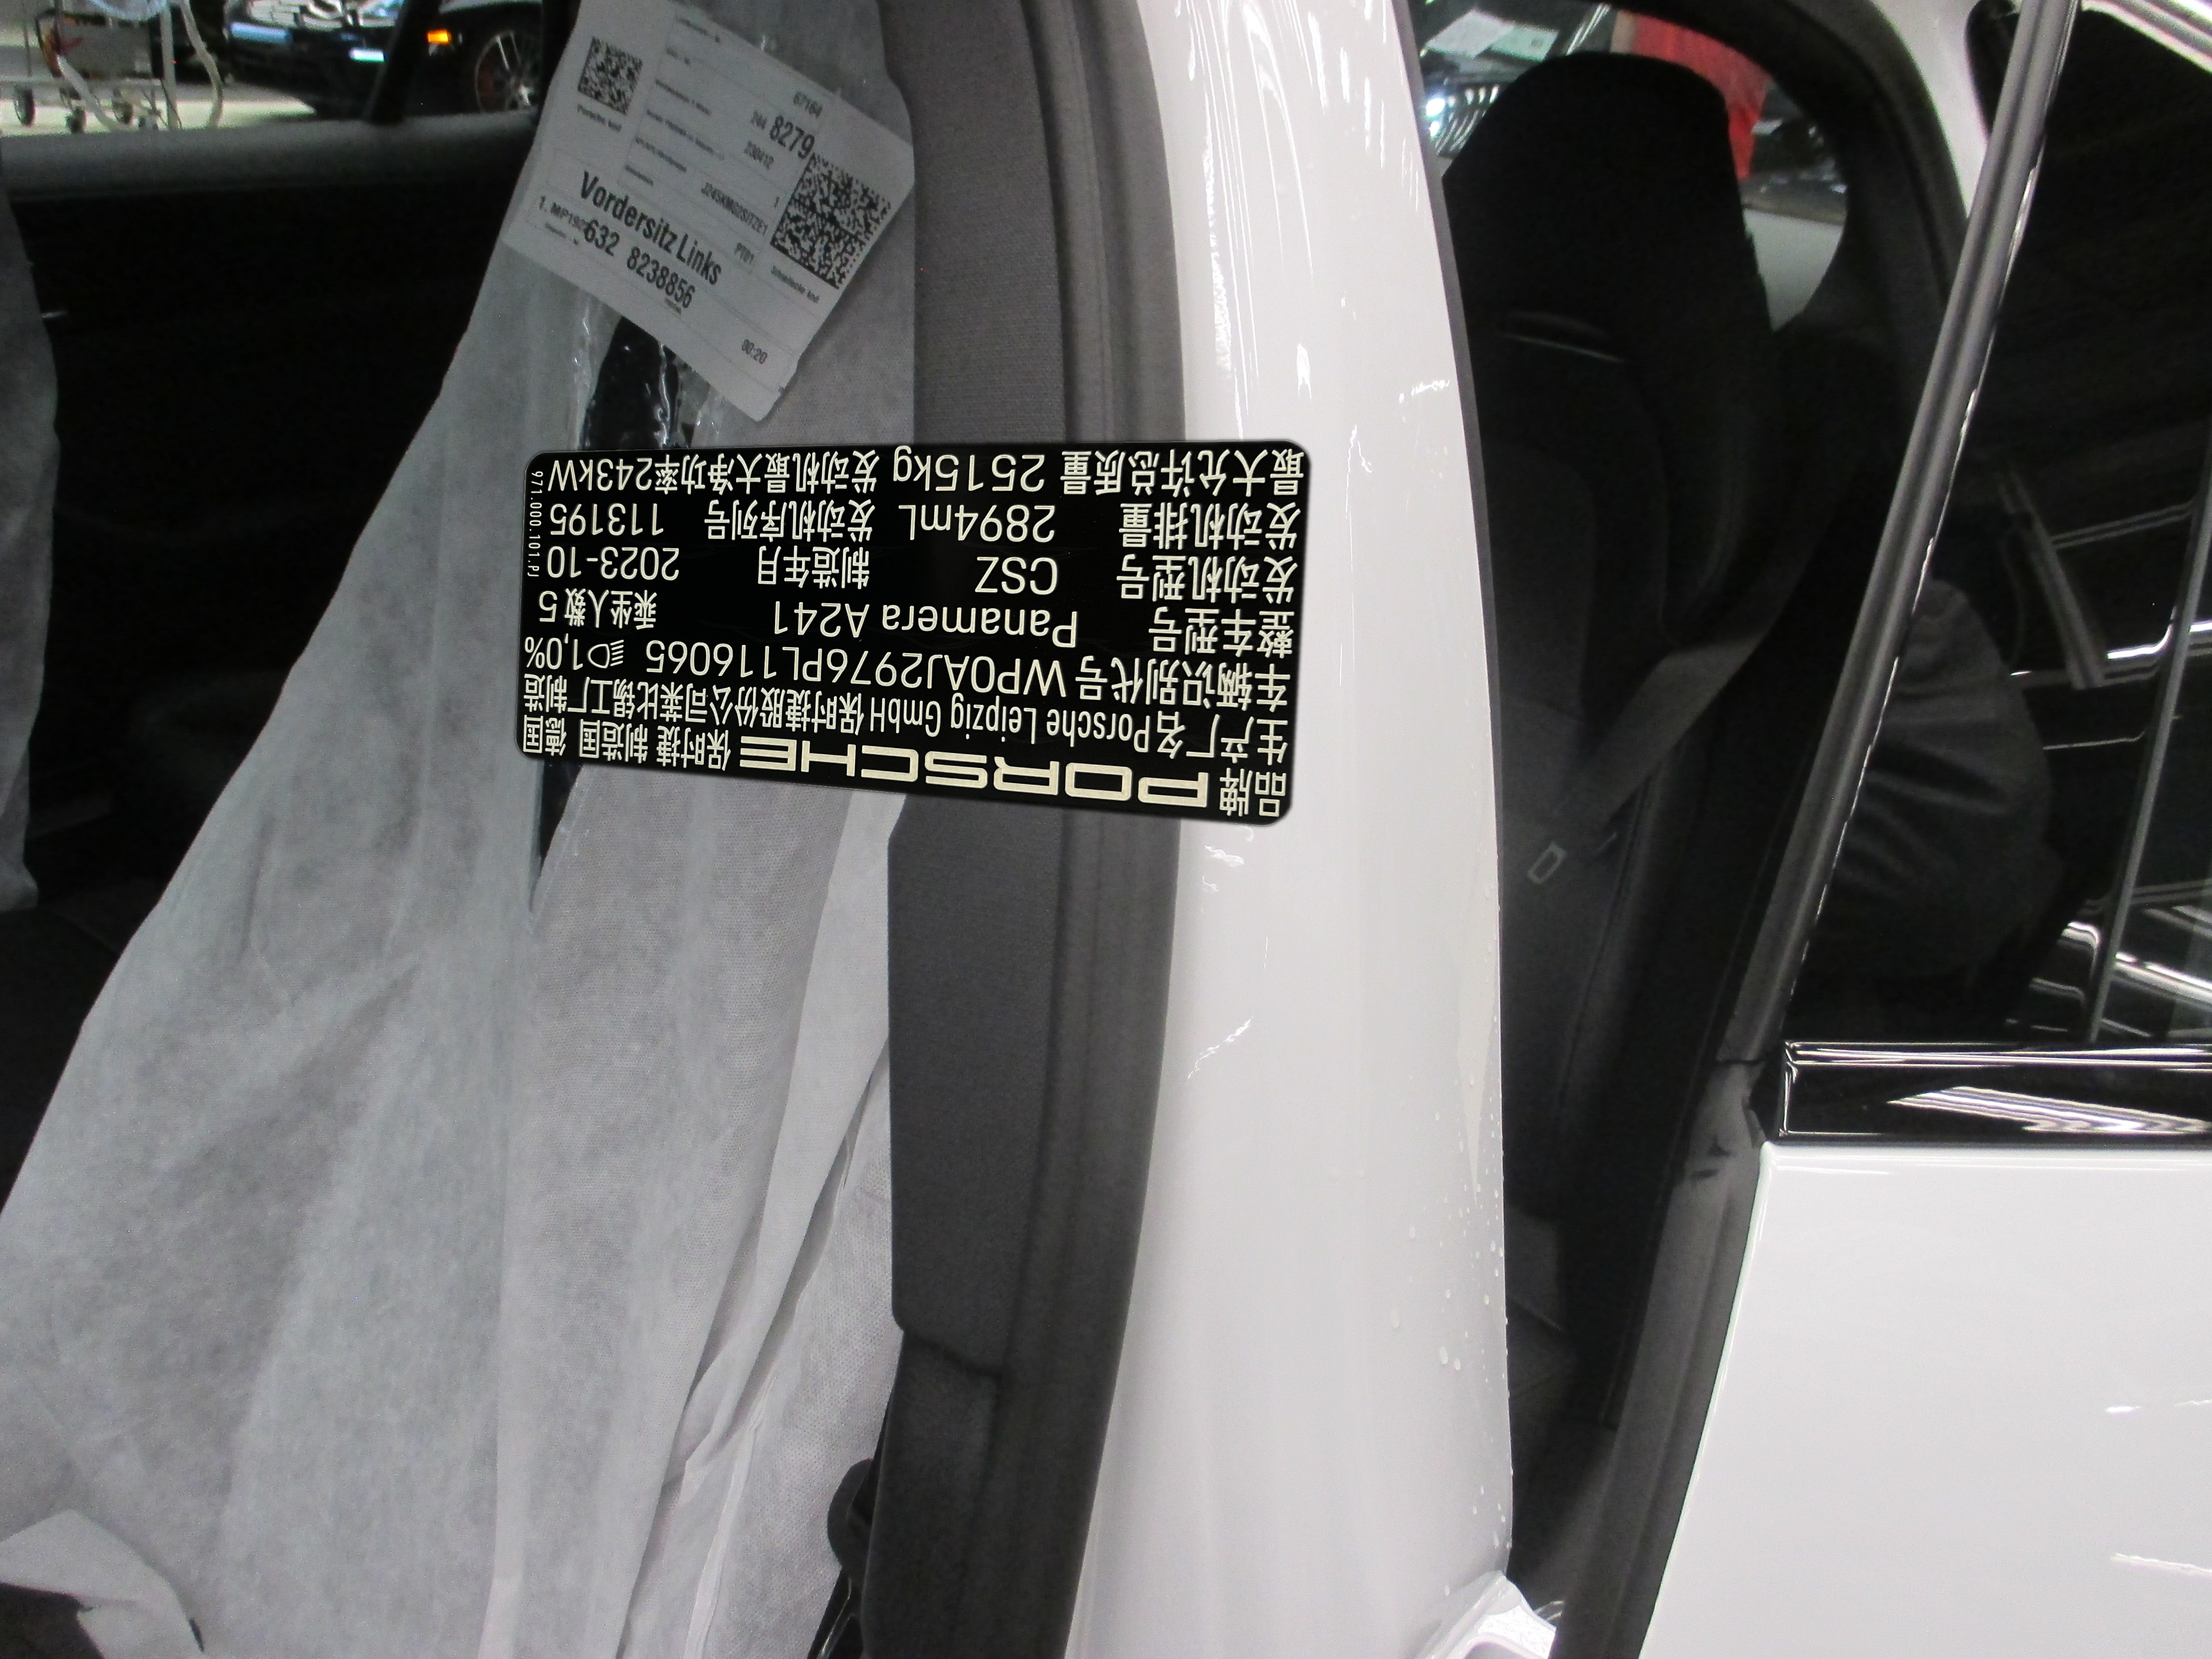Typlabel-China: (516, 441, 1310, 826)
